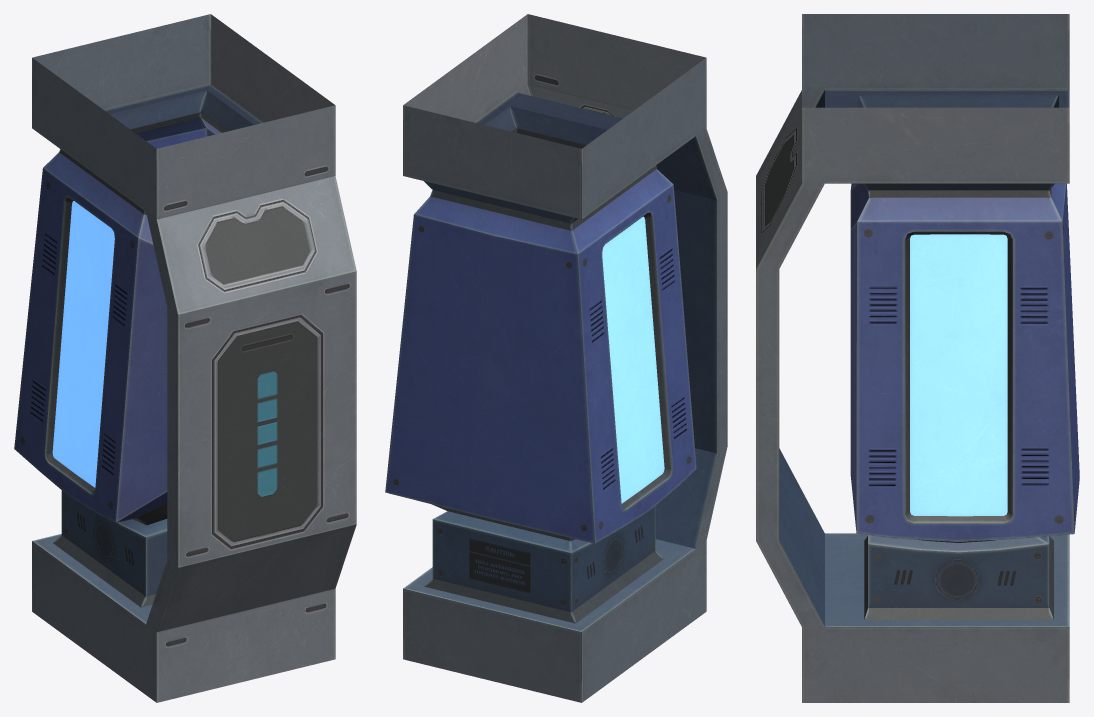
The model's file is DS_SM023_Scifi_Room_Column_01.fbx.
3 views of the same model, side by side, from view 1: azimuth 30°, elevation 25°; view 2: azimuth 150°, elevation 25°; view 3: azimuth 270°, elevation 25° (orthographic). The views are drawn at different scales.
Parts seen in each view (by area): view 1: DS_SM023_Scifi_Room_Column_01_LP; view 2: DS_SM023_Scifi_Room_Column_01_LP; view 3: DS_SM023_Scifi_Room_Column_01_LP.
Boxes of the visible parts, x1,y1,x2,y2 form: DS_SM023_Scifi_Room_Column_01_LP: (14, 14, 356, 702); DS_SM023_Scifi_Room_Column_01_LP: (385, 14, 727, 702); DS_SM023_Scifi_Room_Column_01_LP: (756, 14, 1079, 702).
Size of the model in its own units: 158 by 400 by 197.
1 material, 1 textured.
